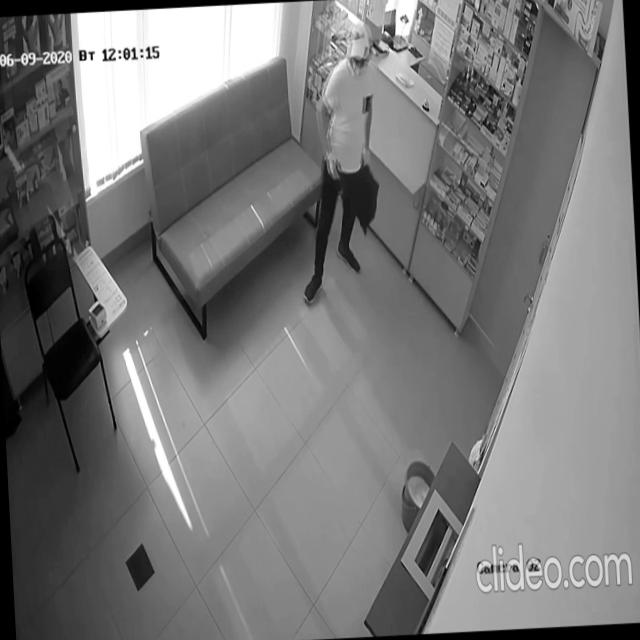gun: (332, 157, 351, 202)
person with a gun: (289, 24, 388, 308)
